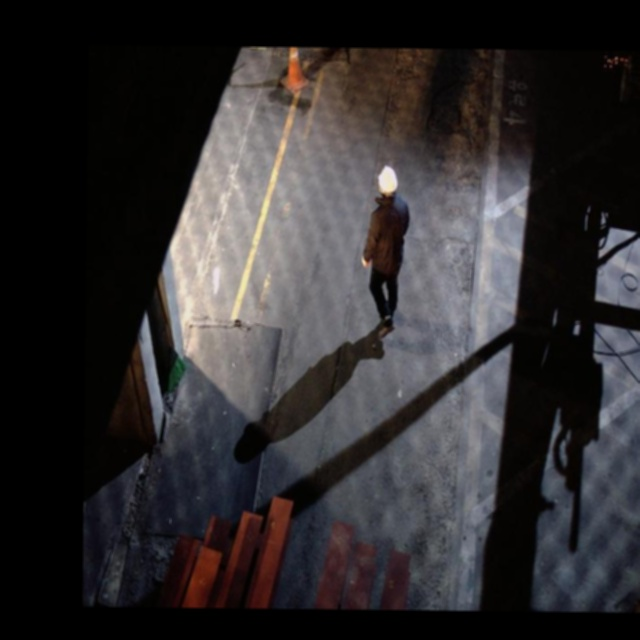Con_Casco: (376, 164, 399, 198)
Sin_Chaleco: (371, 201, 408, 272)
